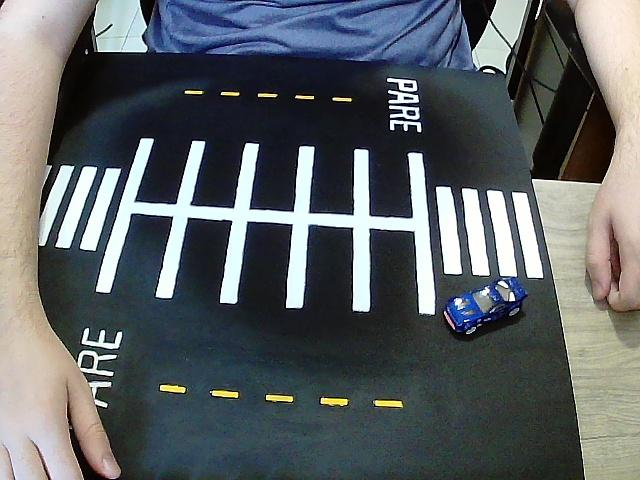Carro: (443, 277, 528, 335)
